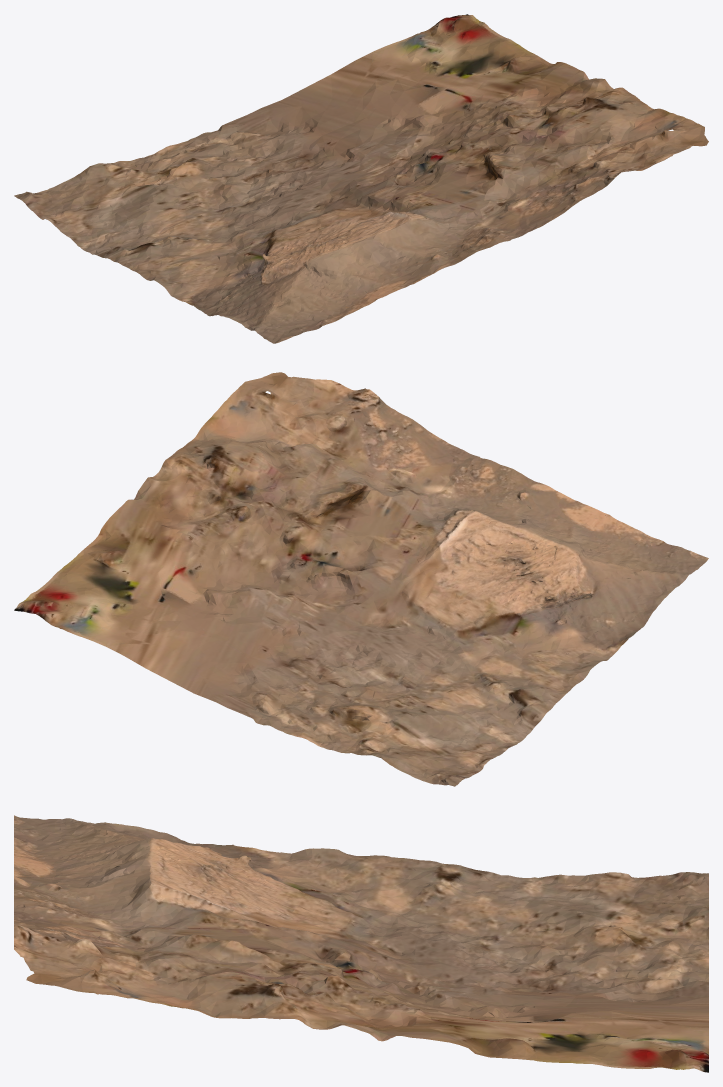
3 renders of one model, top to bottom at view 1: azimuth 30°, elevation 25°; view 2: azimuth 150°, elevation 25°; view 3: azimuth 270°, elevation 25°, orthographic. The views are drawn at different scales.
Size of the model in its own units: 4.18 by 1.2 by 4.18.
3 materials, 3 textured.
